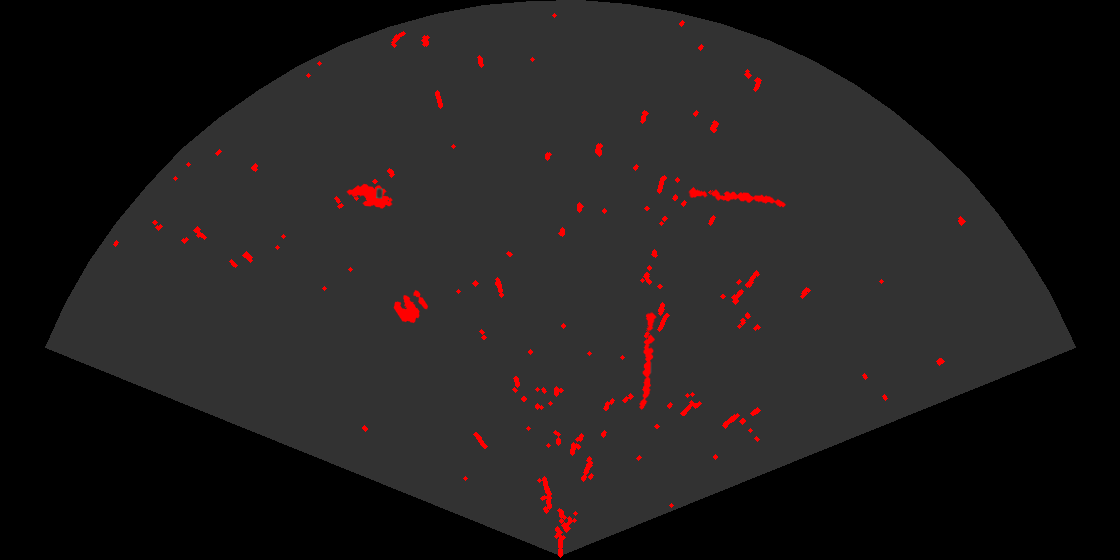AUV: (345, 182, 394, 210)
ball: (392, 288, 430, 325)
chain: (686, 185, 788, 209), (638, 311, 658, 411)
